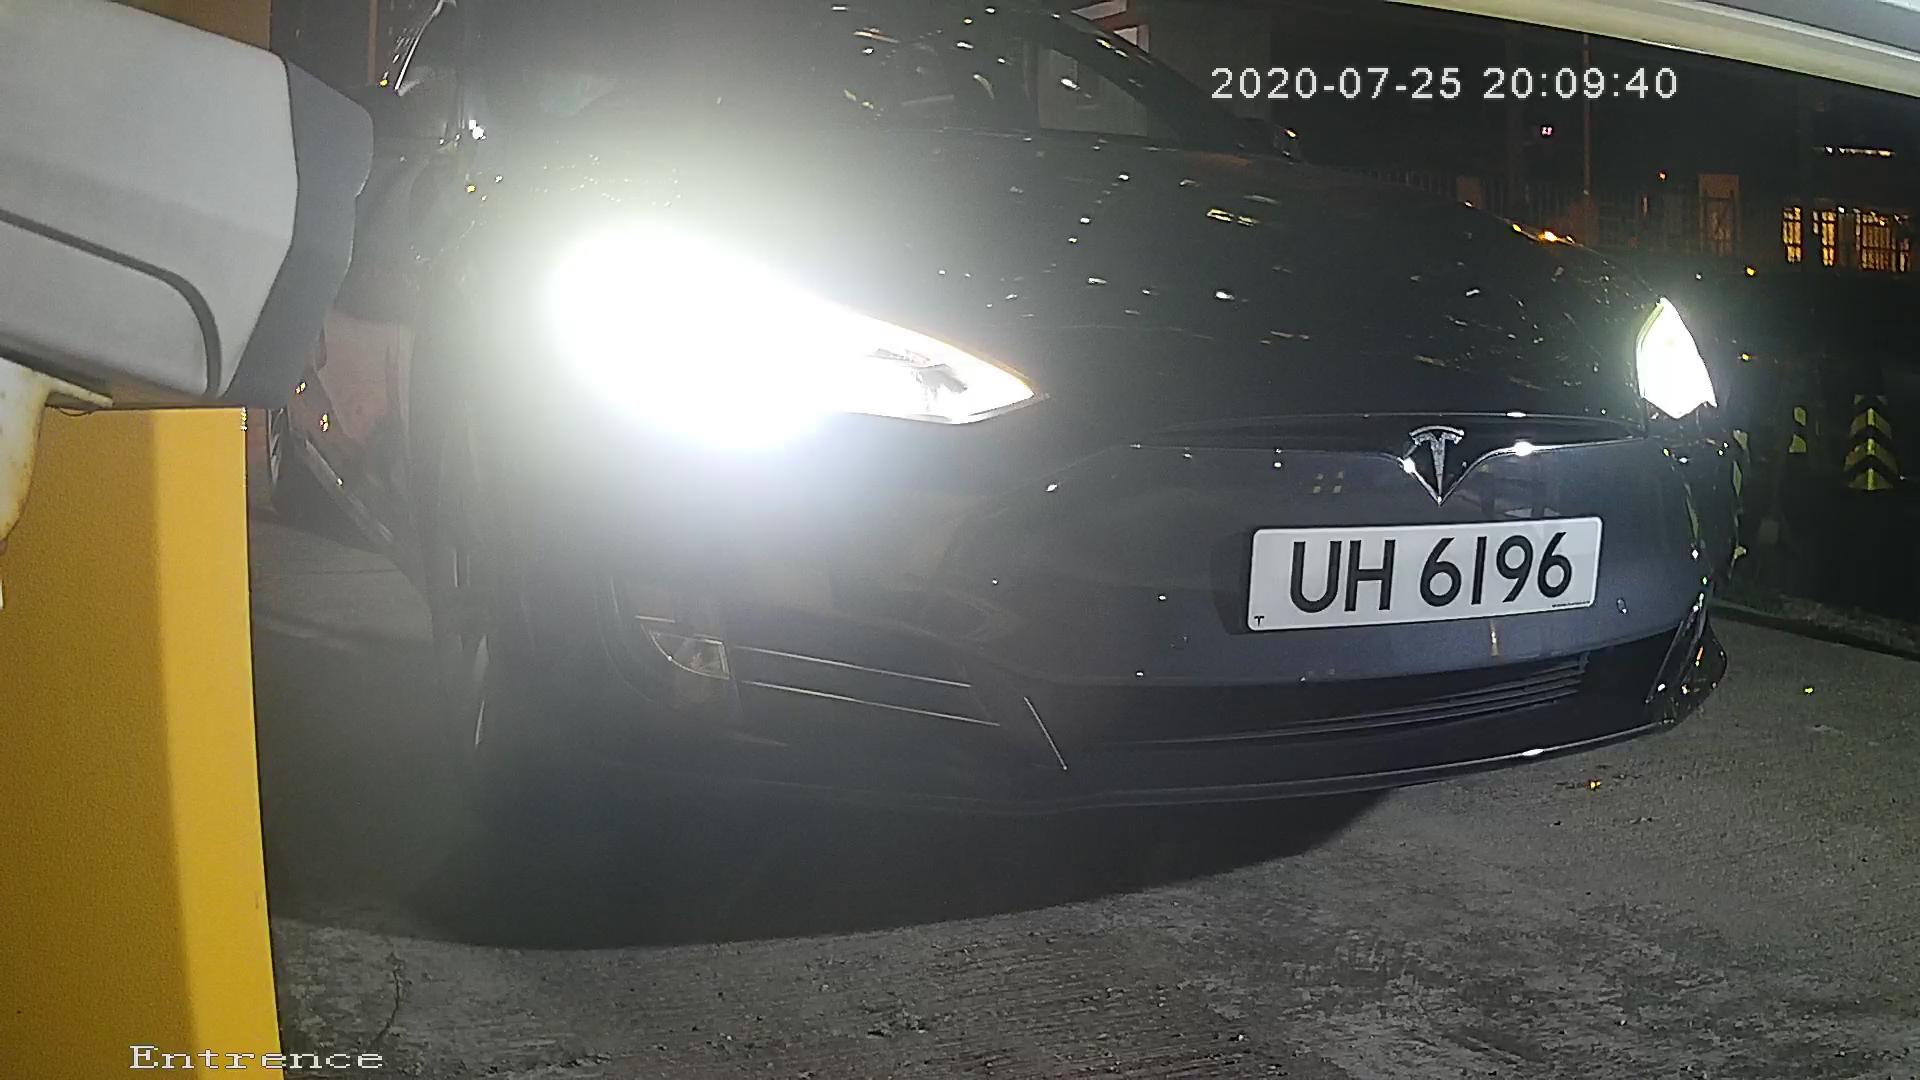Car: (112, 1, 1869, 878)
License Plate: (1209, 497, 1621, 647)
